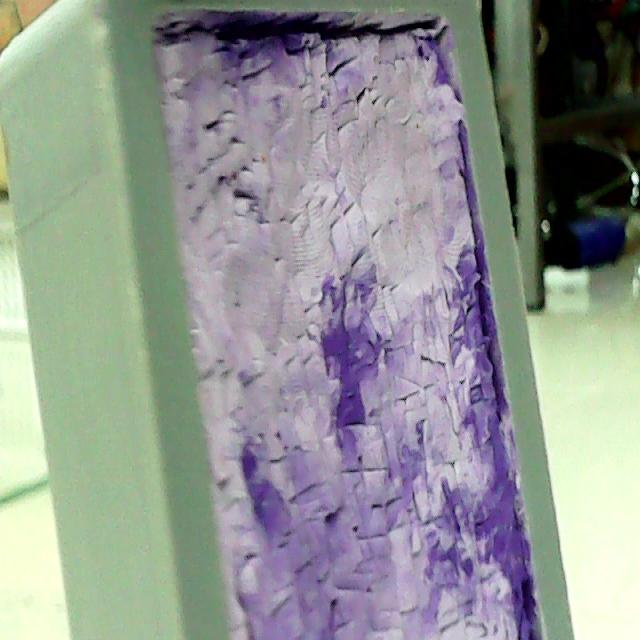block: (0, 0, 578, 638)
